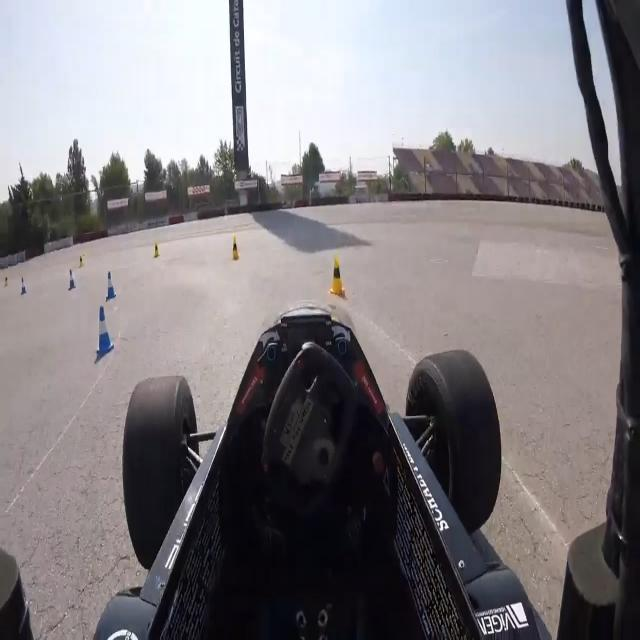blue_cone: (96, 306, 114, 356), (106, 272, 116, 300), (68, 267, 76, 291), (20, 276, 27, 296)
yellow_cone: (329, 258, 346, 301), (232, 236, 239, 262)
